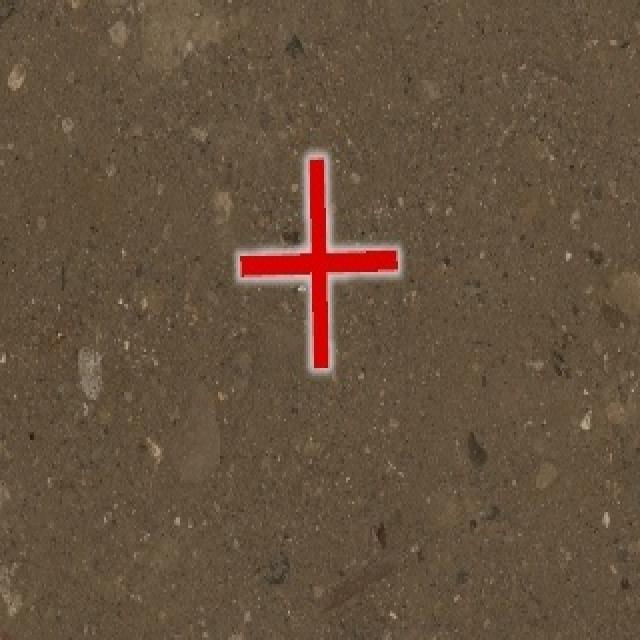x_marker: (239, 156, 397, 367)
